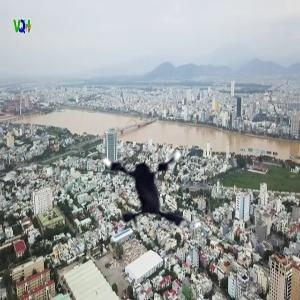drone: (87, 114, 229, 256)
